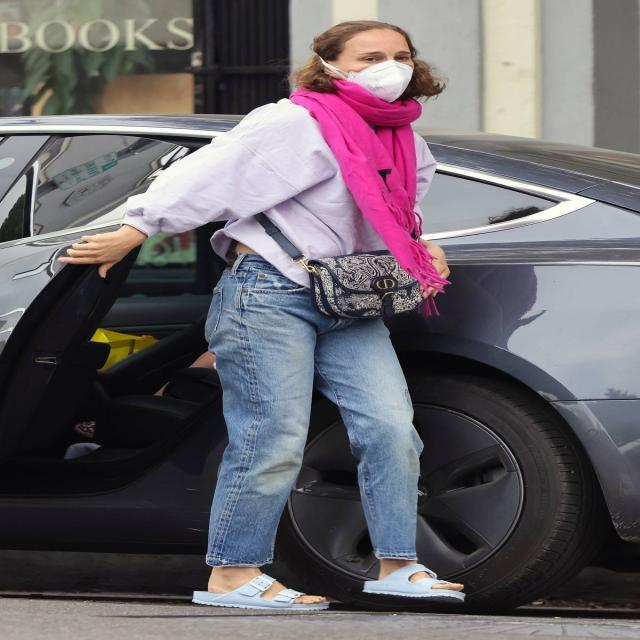Helmet: (311, 49, 416, 103)
Nonhelmet: (288, 19, 445, 104)
